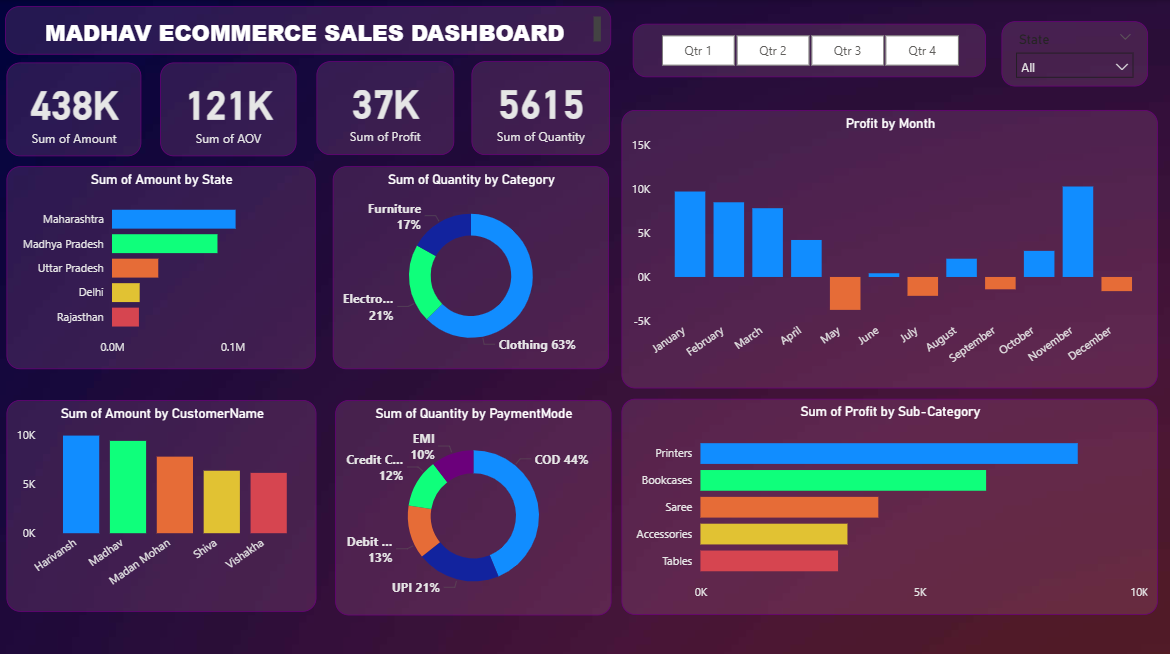

The dashboard page shown, as its layout file describes it:
{"tool":"powerbi","page":{"name":"Page 1","canvas":[1280,720],"ordinal":0},"visuals":[{"type":"textbox","box":[7.5,6.2,661.2,52.5],"z":0},{"type":"columnChart","title":"Profit by Month","fields":{"Y":["Sum(Details.Profit)"],"Category":["Orders.Order Date.Variation.Date Hierarchy.Month"]},"box":[680,120,585.7,304.3],"z":1000},{"type":"barChart","fields":{"Category":["Details.Sub-Category"],"Y":["Sum(Details.Profit)"]},"box":[680,435.7,585.7,235.7],"z":2000},{"type":"donutChart","fields":{"Category":["Details.Category"],"Y":["Sum(Details.Quantity)"]},"box":[365,181.2,301.2,221.2],"z":3000},{"type":"donutChart","fields":{"Y":["Sum(Details.Quantity)"],"Category":["Details.PaymentMode"]},"box":[367.5,436.2,301.2,235],"z":4000},{"type":"card","fields":{"Values":["Sum(Details.Amount)"]},"box":[8.8,68.8,147.5,102.5],"z":5000},{"type":"card","fields":{"Values":["Sum(Details.Quantity)"]},"box":[516.2,66.2,151.2,102.5],"z":6000},{"type":"card","fields":{"Values":["Sum(Details.Profit)"]},"box":[346.2,67.5,150,102.5],"z":7000},{"type":"card","fields":{"Values":["Sum(Details.AOV)"]},"box":[176.2,68.8,148.8,102.5],"z":8000},{"type":"barChart","fields":{"Category":["Orders.State"],"Y":["Sum(Details.Amount)"]},"box":[8.8,181.2,337.5,221.2],"z":9000},{"type":"columnChart","fields":{"Category":["Orders.CustomerName"],"Y":["Sum(Details.Amount)"]},"box":[8.8,436.2,338.8,231.2],"z":10000},{"type":"slicer","fields":{"Values":["Orders.Order Date.Variation.Date Hierarchy.Quarter"]},"box":[691.4,25.7,385.7,58.6],"z":11000},{"type":"slicer","fields":{"Values":["Orders.State"]},"box":[1094.3,22.9,160,71.4],"z":12000}]}

Visuals, with their boxes in screenshot pixels (x1, y1, x2, y2), scaled from the page's 1280x720 canvas onto the 1170x654 screenshot:
textbox: region(7, 6, 611, 53)
"Profit by Month" columnChart: region(622, 109, 1157, 385)
barChart - Details.Sub-Category x Sum(Details.Profit): region(622, 396, 1157, 610)
donutChart - Details.Category x Sum(Details.Quantity): region(334, 165, 609, 366)
donutChart - Sum(Details.Quantity) x Details.PaymentMode: region(336, 396, 611, 610)
card - Sum(Details.Amount): region(8, 62, 143, 156)
card - Sum(Details.Quantity): region(472, 60, 610, 153)
card - Sum(Details.Profit): region(316, 61, 454, 154)
card - Sum(Details.AOV): region(161, 62, 297, 156)
barChart - Orders.State x Sum(Details.Amount): region(8, 165, 317, 366)
columnChart - Orders.CustomerName x Sum(Details.Amount): region(8, 396, 318, 606)
slicer - Orders.Order Date.Variation.Date Hierarchy.Quarter: region(632, 23, 985, 77)
slicer - Orders.State: region(1000, 21, 1147, 86)
